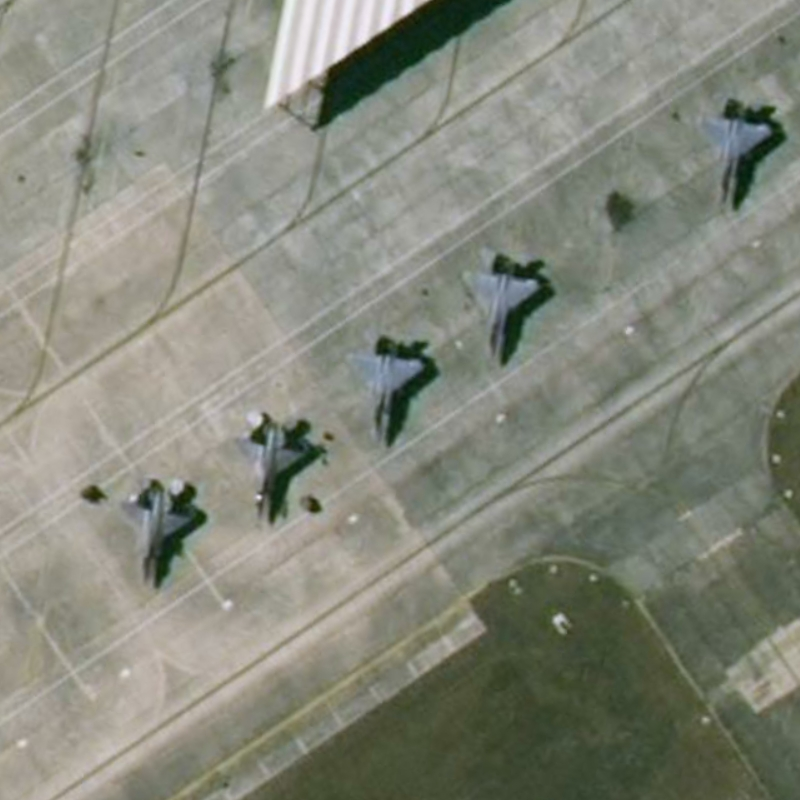A13: (451, 244, 554, 361), (335, 325, 432, 446), (690, 91, 782, 214)
A15: (109, 470, 206, 594), (233, 405, 326, 528)
